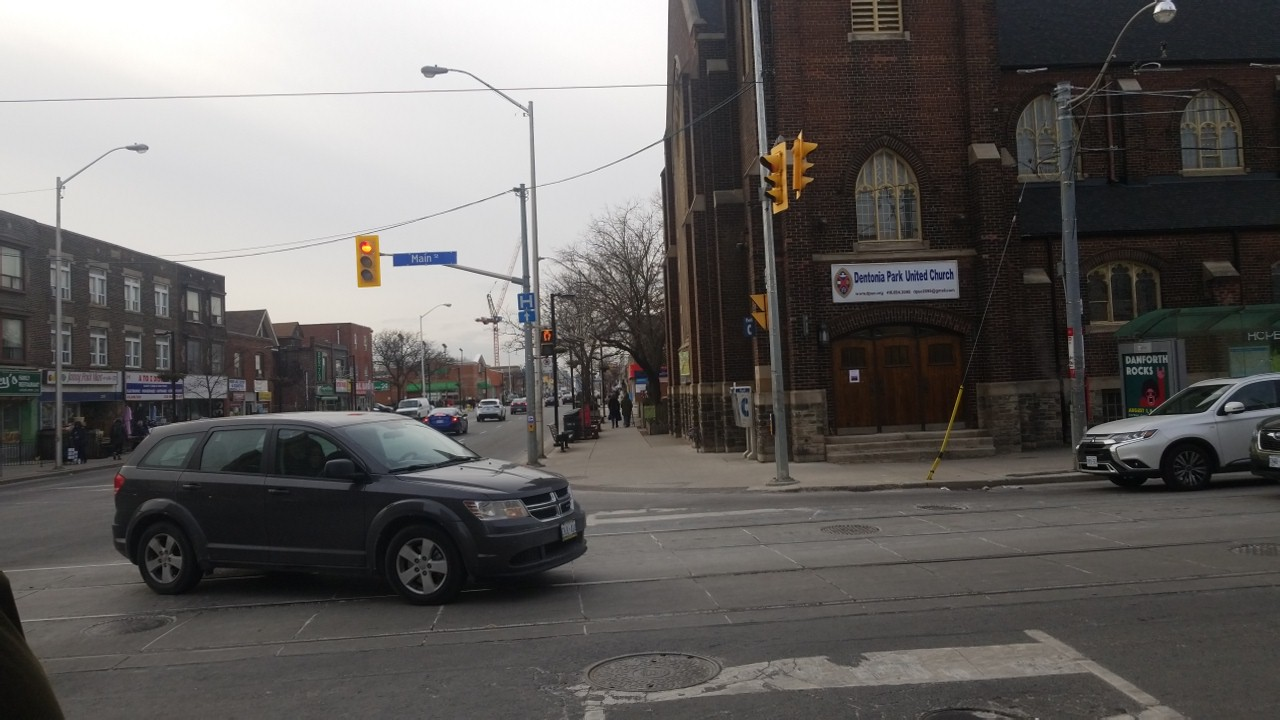light: (538, 327, 554, 356)
